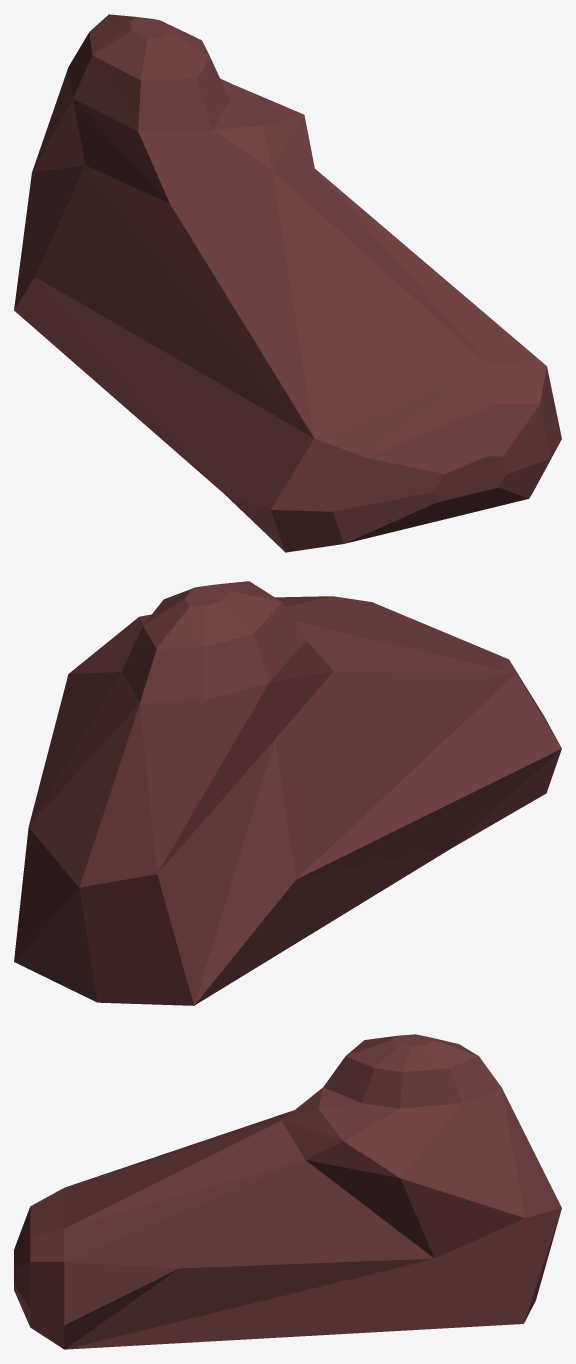
Rendered from RFoot_mesh.dae.
3 renders of one model, top to bottom at view 1: azimuth 30°, elevation 25°; view 2: azimuth 150°, elevation 25°; view 3: azimuth 270°, elevation 25°, orthographic. The views are drawn at different scales.
Visible parts, largest first — view 1: RFoot; view 2: RFoot; view 3: RFoot.
Boxes of the visible parts, box(x1,y1,x2,y2) form: RFoot: box(14, 14, 561, 552); RFoot: box(14, 581, 561, 1005); RFoot: box(14, 1034, 561, 1349).
Bounding box in the file's own units: 0.0969 × 0.1061 × 0.2086.
